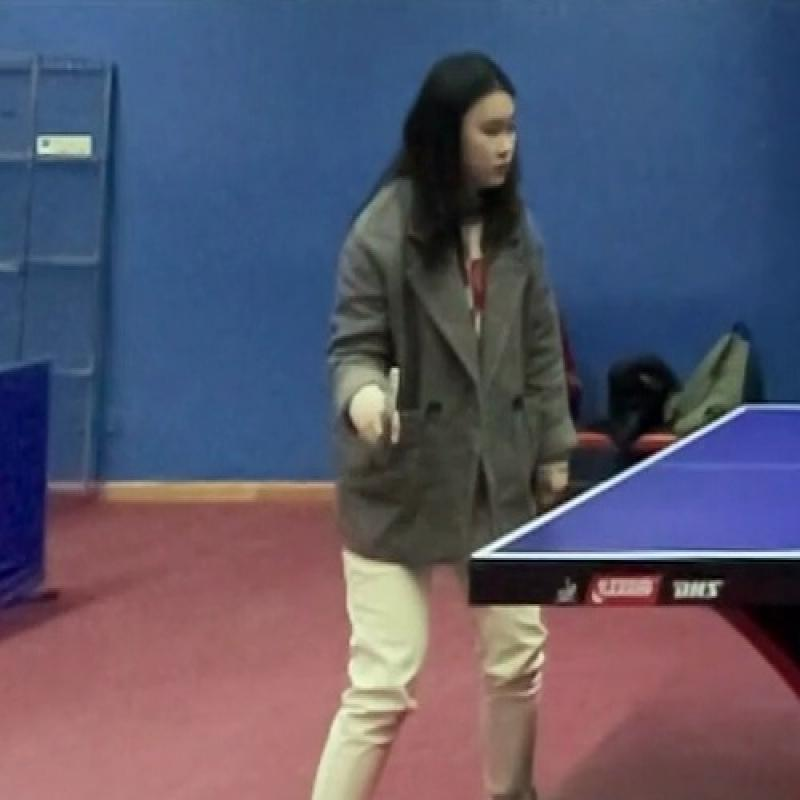bats: (353, 364, 427, 472)
